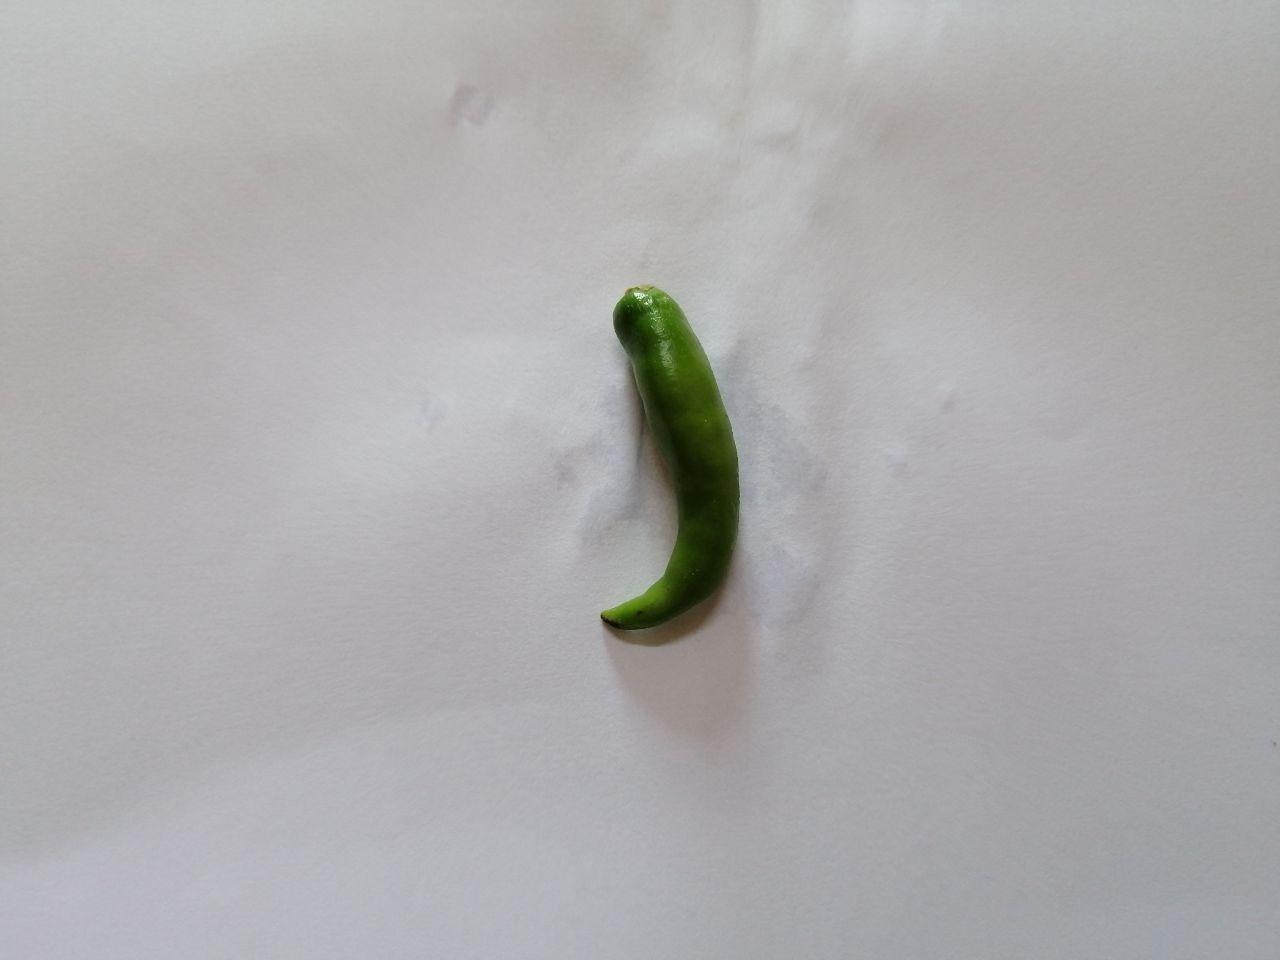lada hijau: (578, 275, 762, 640)
